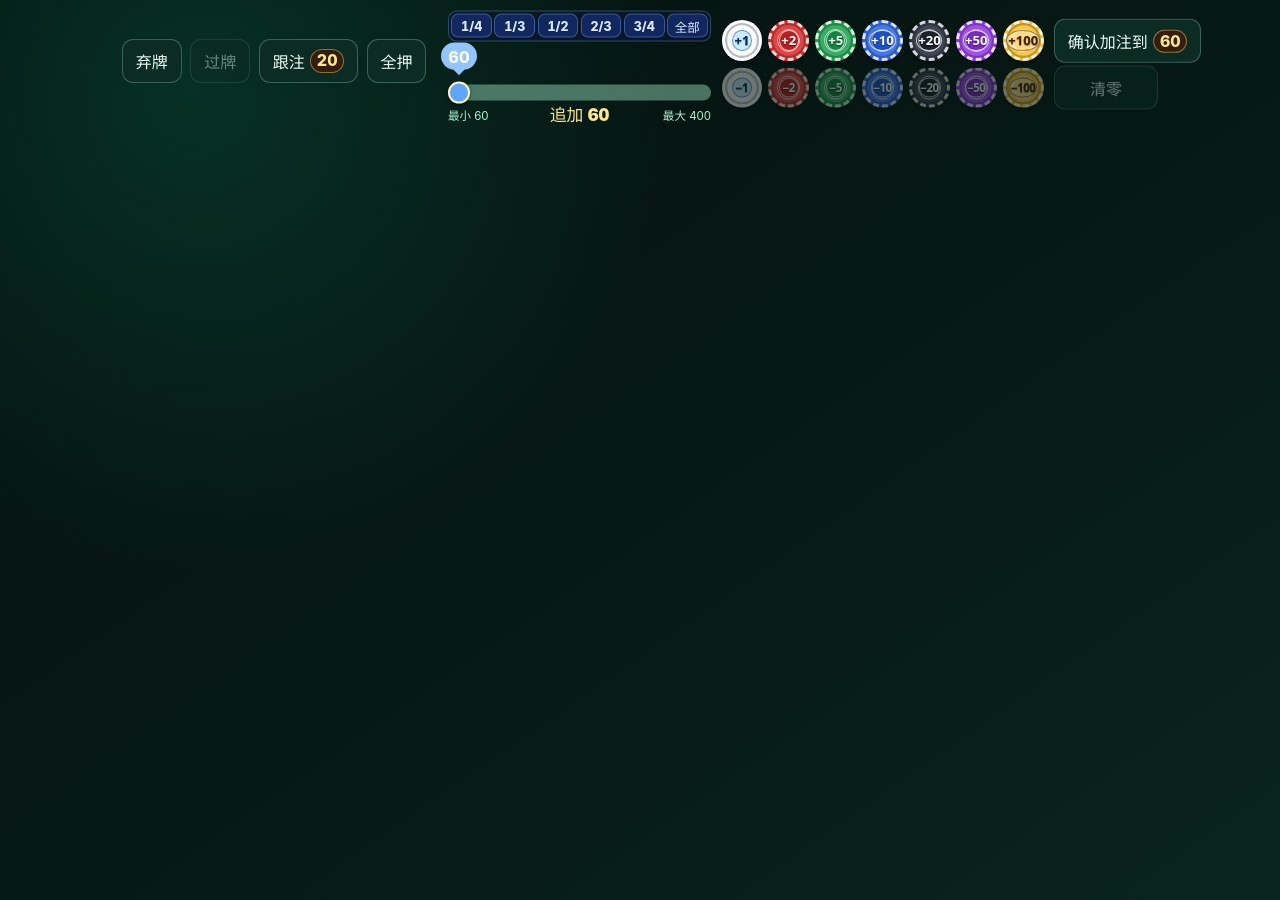
Scenario: BettingControls › starts the raise slider at zero increment and can clear the selected chips
This screenshot has width=1280, height=900.
expect the slider named "加注增量" holds "0": met, box [448,71,711,115]
Step 1. Click the button named "增加 20 筹码" → [929, 40], box [907,18,951,62]
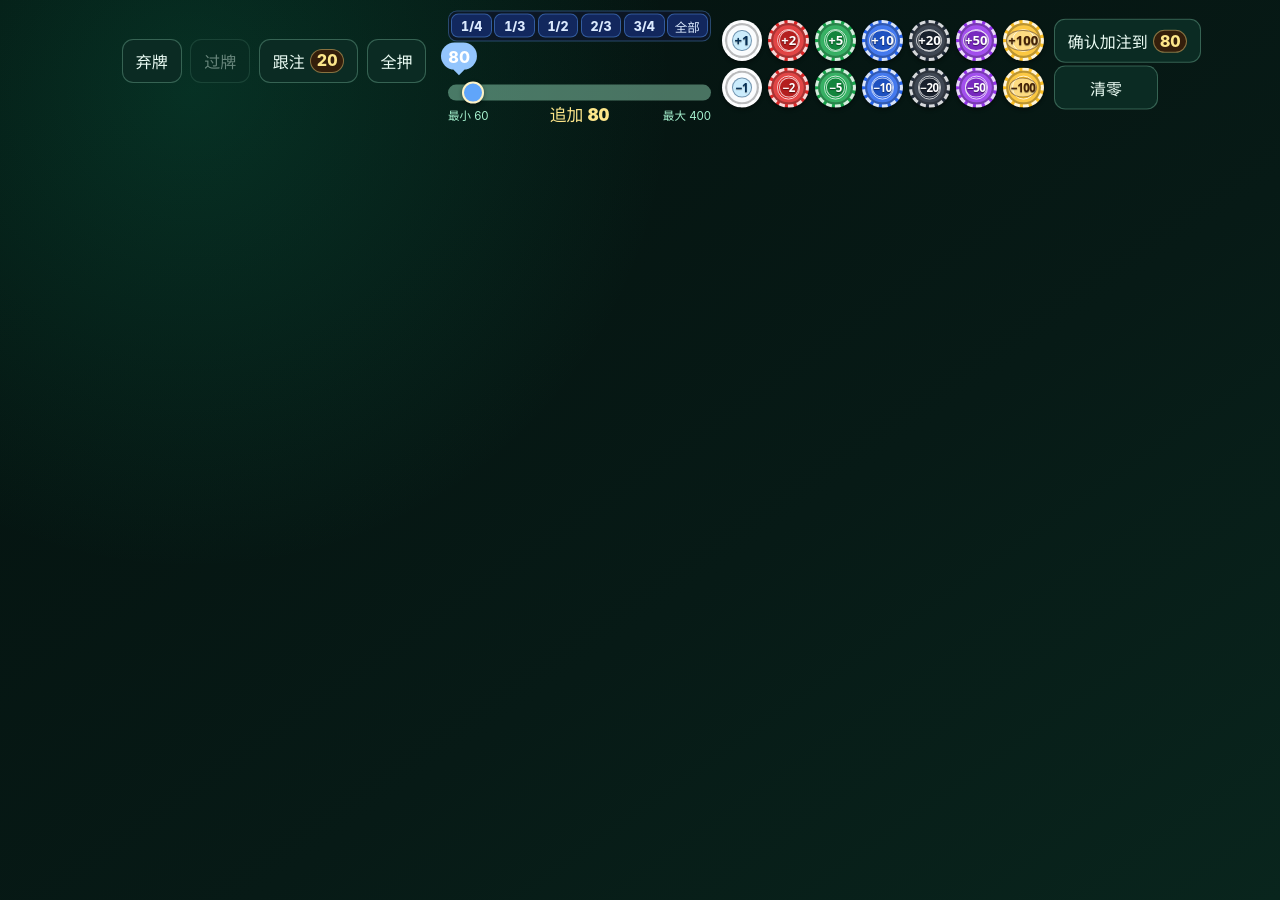
expect the slider named "加注增量" holds "20": met, box [448,71,711,115]
Step 2. Click the button named "减少 5 筹码" → [836, 88], box [814,66,858,110]
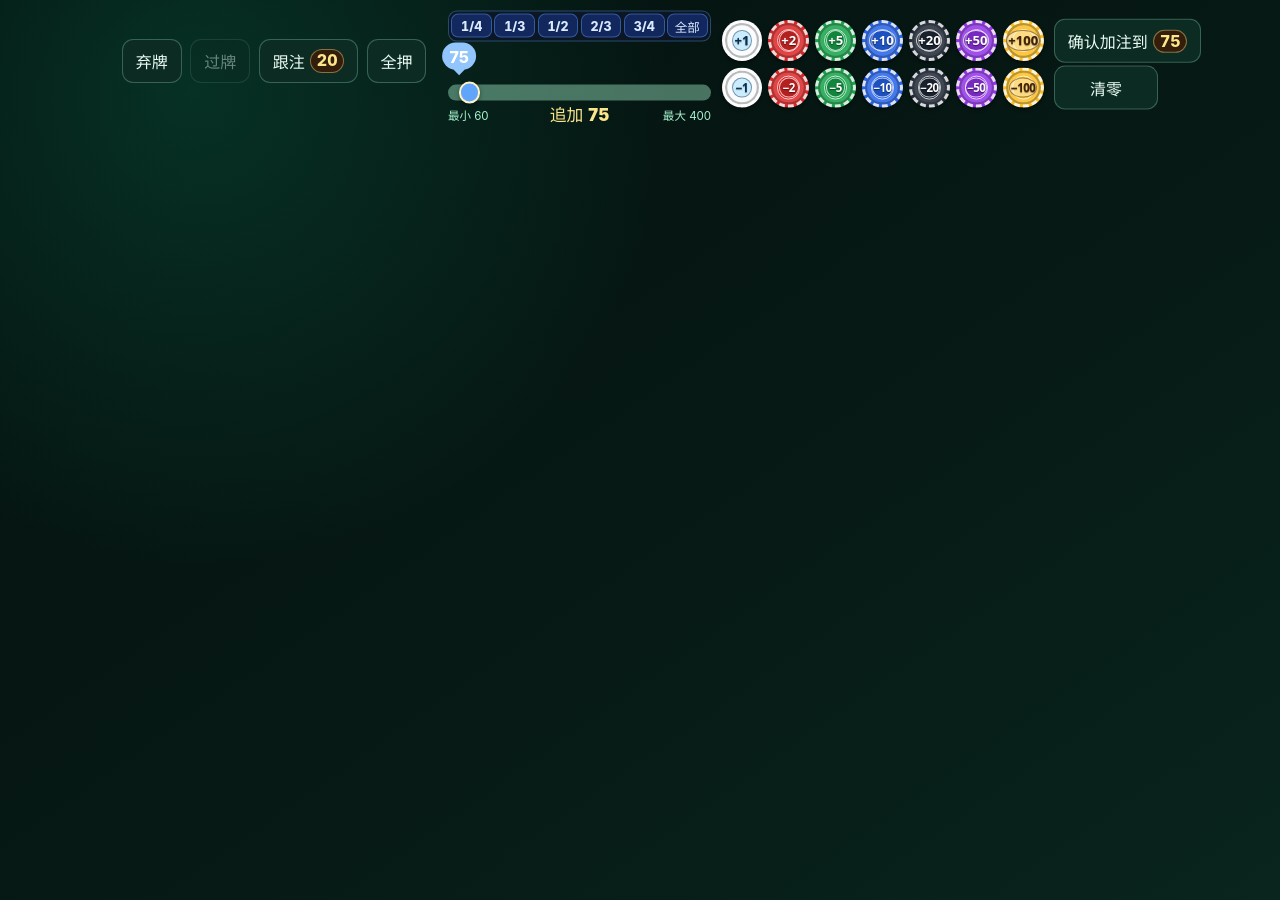
expect the slider named "加注增量" holds "15": met, box [448,71,711,115]
Step 3. Click the button "清零" → [1106, 88], box [1054,66,1158,110]
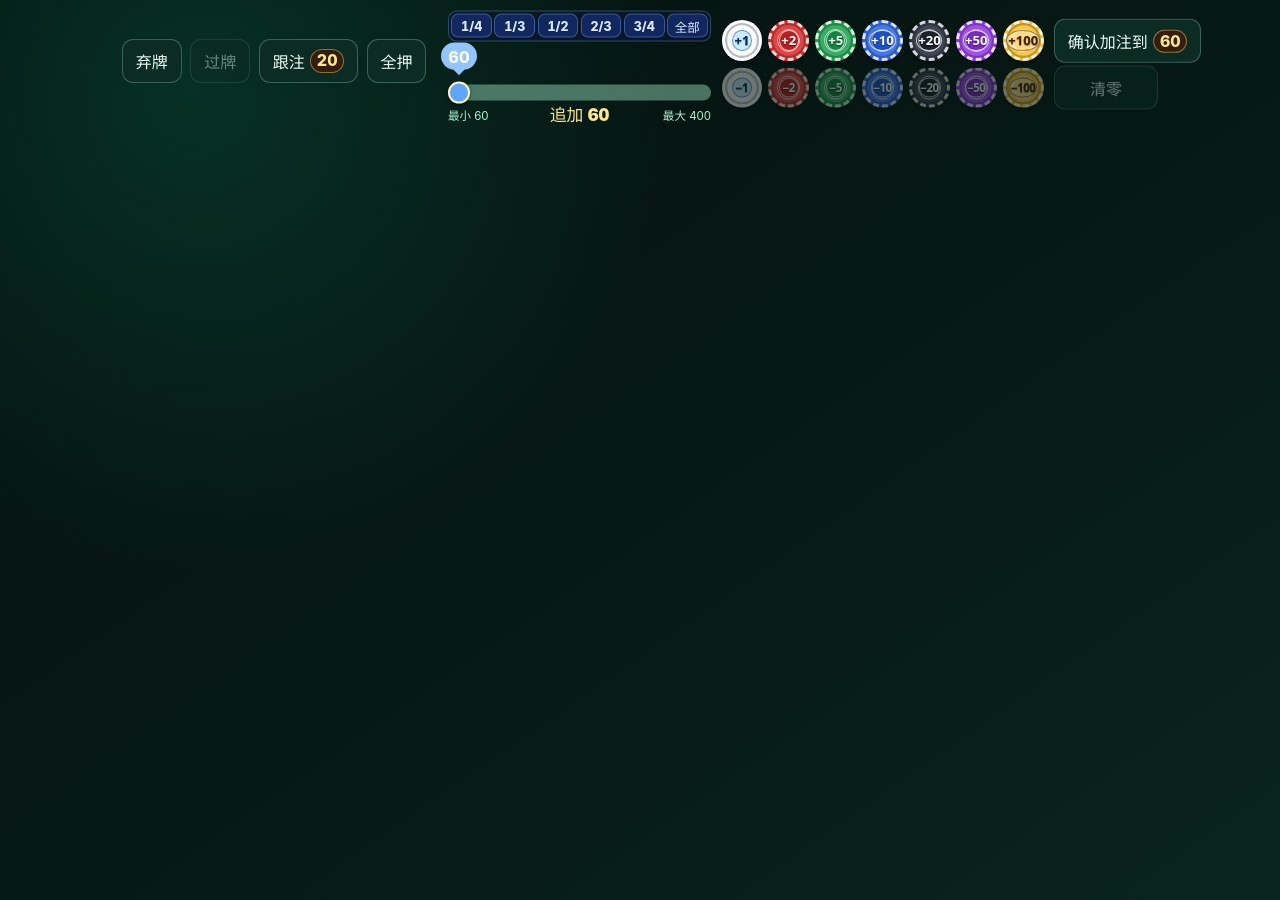
expect the slider named "加注增量" holds "0": met
expect the 2nd text "60" is shown: met, box [441,43,477,69]
expect the text "追加 60" is shown: met, box [550,107,609,123]
Step 4. Set the slider named "加注增量" to "120" → [543, 93], box [448,71,711,115]
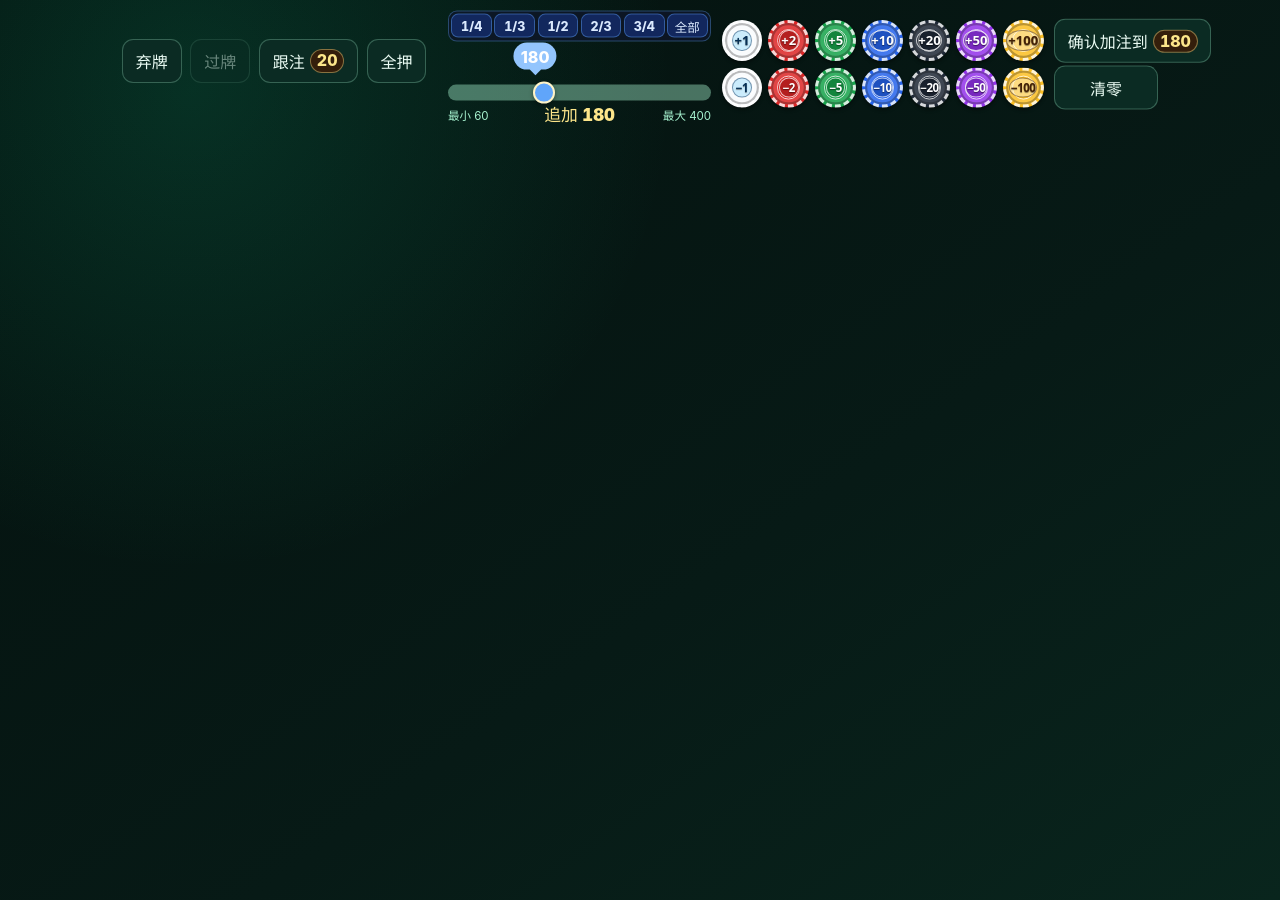
expect the text "追加 180" is shown: met, box [544,107,615,123]
